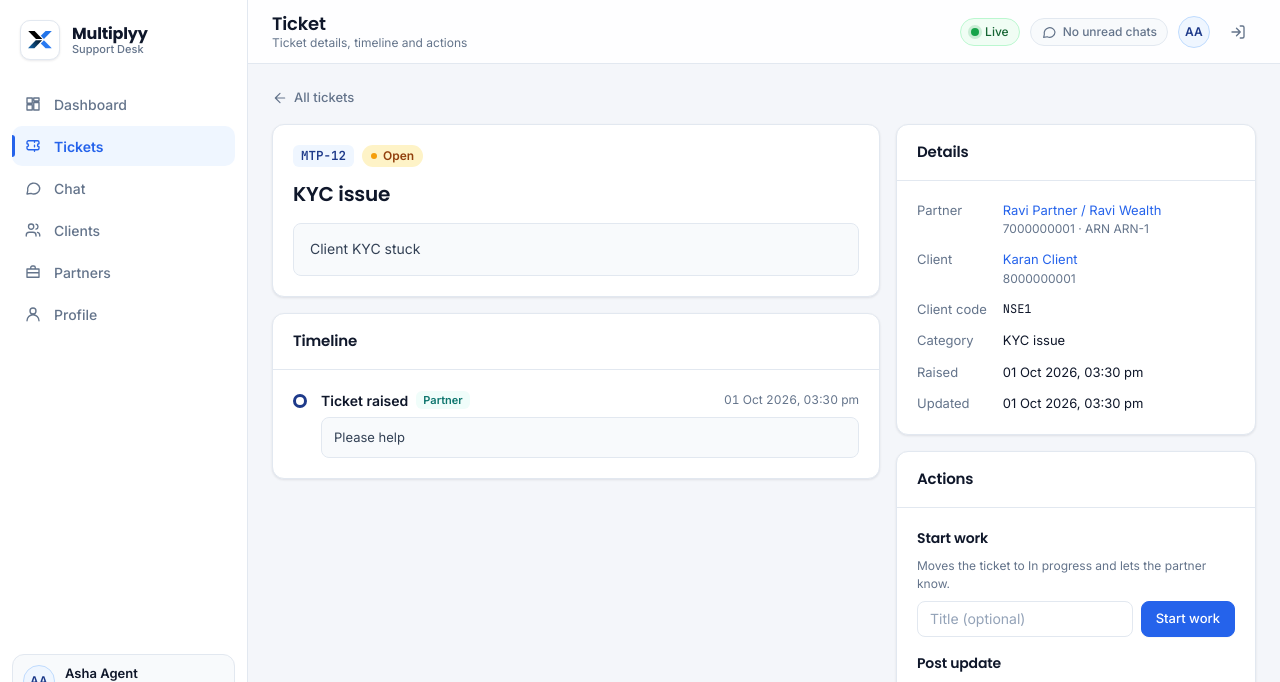
Test: ticket detail › start work posts IN_PROGRESS
Click the button "Start work".
click(1188, 618)  # box [1141,600,1235,636]
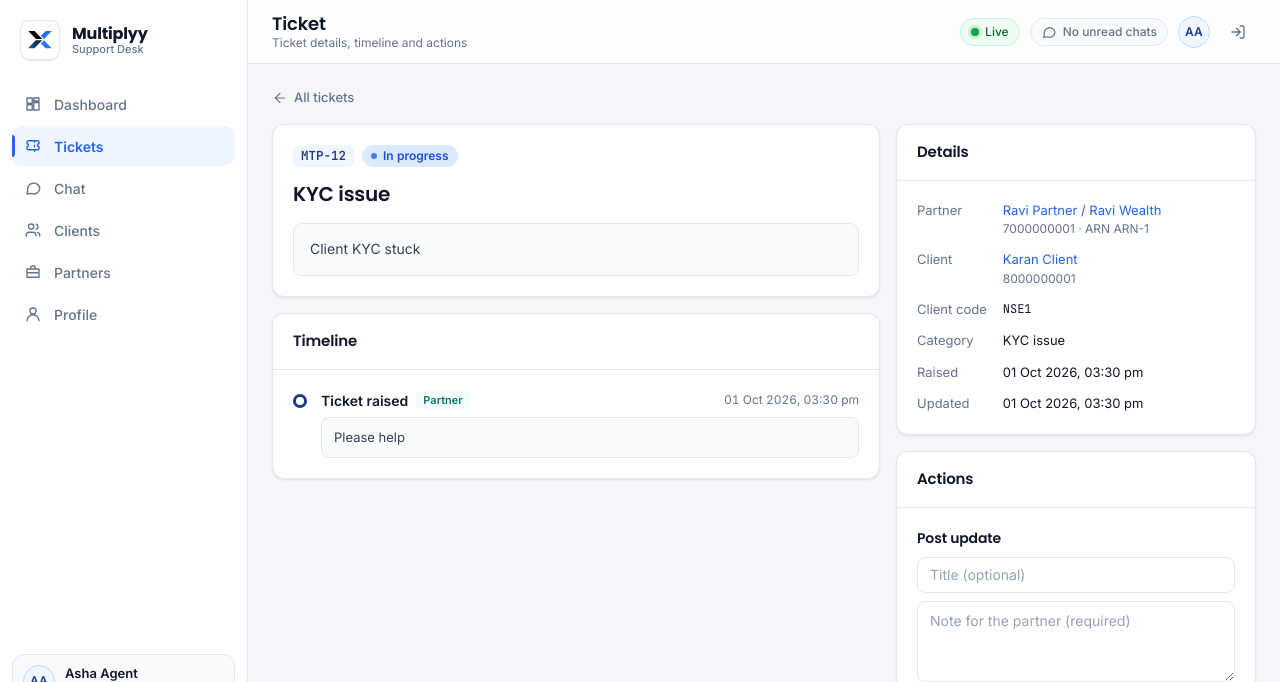
Expected: the heading "Start work" is gone
